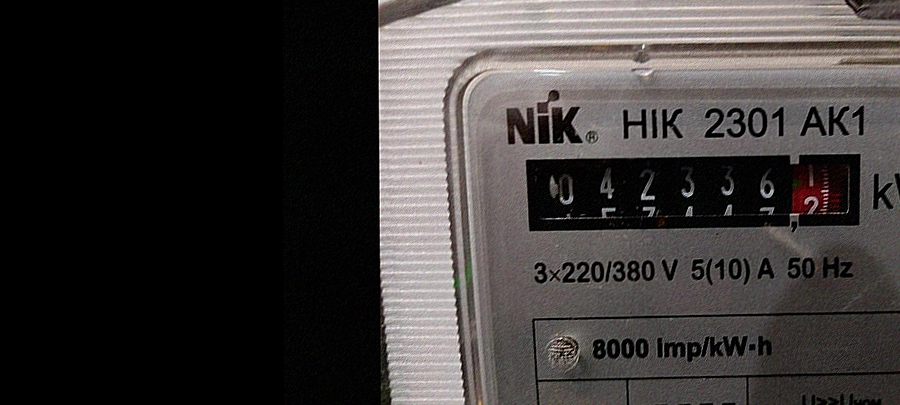0: (555, 170, 576, 205)
1: (803, 160, 816, 189)
2: (636, 166, 657, 202), (800, 194, 820, 215)
3: (677, 161, 696, 200), (715, 161, 735, 197)
4: (596, 163, 615, 200)
6: (754, 164, 776, 199)
screen: (517, 143, 870, 239)
